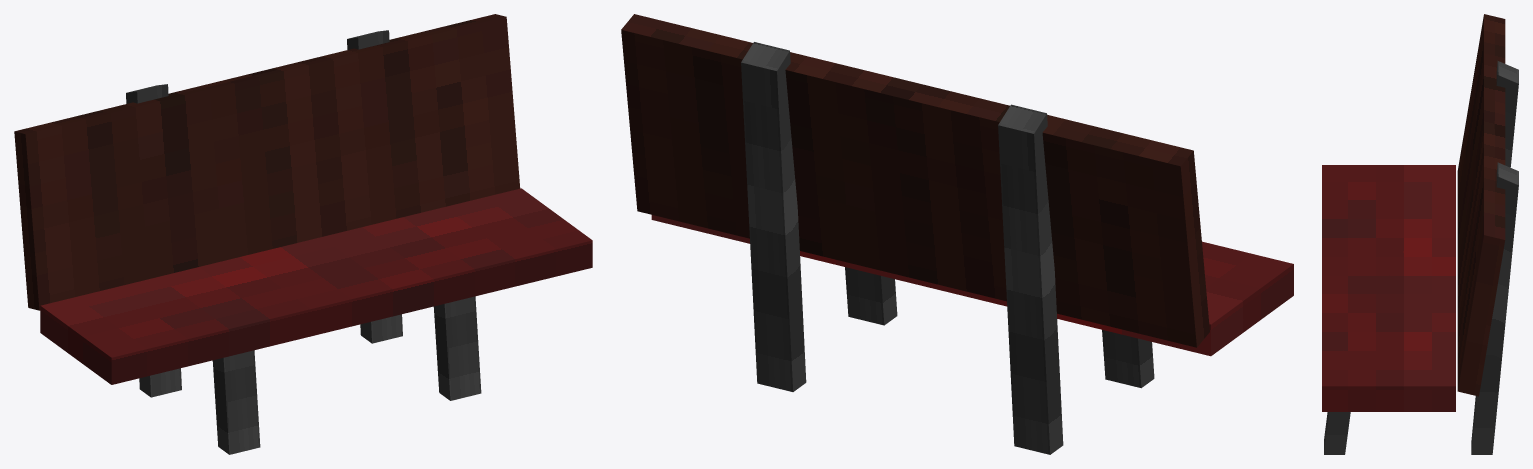
Rendered from Bench_1.fbx.
3 views of the same model, side by side, from view 1: azimuth 30°, elevation 25°; view 2: azimuth 150°, elevation 25°; view 3: azimuth 270°, elevation 25° (orthographic). The views are drawn at different scales.
Parts seen in each view (by area): view 1: Bench_1; view 2: Bench_1; view 3: Bench_1.
Boxes of the visible parts, bbox=[...] form: Bench_1: bbox=[14, 14, 592, 454]; Bench_1: bbox=[621, 14, 1293, 454]; Bench_1: bbox=[1322, 14, 1518, 454].
Bounding box in the file's own units: 52.46 × 30.82 × 19.75.
